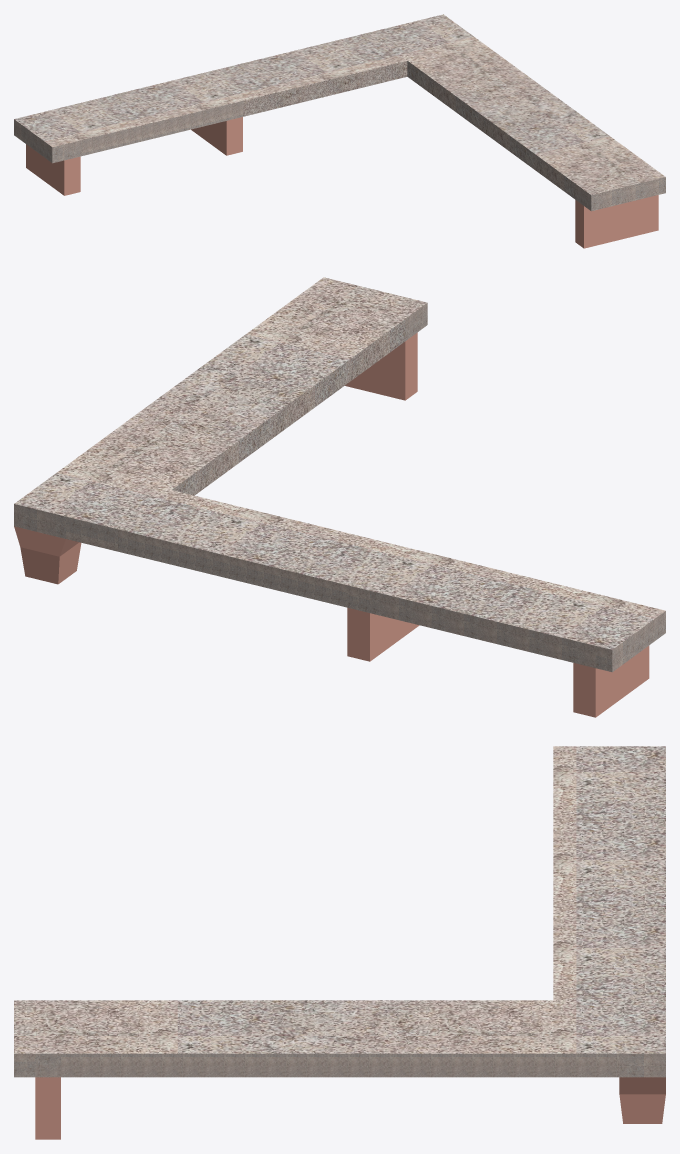
File: SILLA EN LRoma.fbx
The picture shows the model from 3 angles, top to bottom: view 1: azimuth 30°, elevation 25°; view 2: azimuth 150°, elevation 25°; view 3: azimuth 270°, elevation 25°; orthographic projection. The views are drawn at different scales.
Visible parts, largest first — view 1: SILLA EN L; view 2: SILLA EN L; view 3: SILLA EN L.
Part boxes in pixels (box(x1,y1,x2,y2)): SILLA EN L: box(14, 14, 665, 248); SILLA EN L: box(14, 277, 665, 717); SILLA EN L: box(14, 746, 665, 1139).
Size of the model in its own units: 527 by 68.82 by 473.
